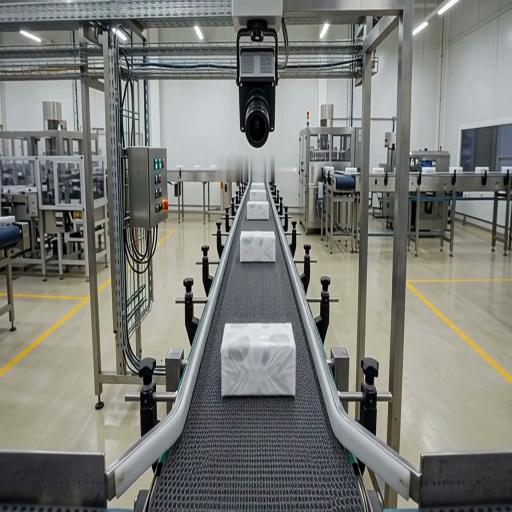good: (220, 322, 296, 396), (239, 230, 277, 263), (246, 200, 270, 221), (249, 189, 267, 202), (250, 182, 265, 190), (475, 166, 488, 174), (450, 166, 463, 174), (344, 167, 358, 174), (372, 168, 385, 174)
